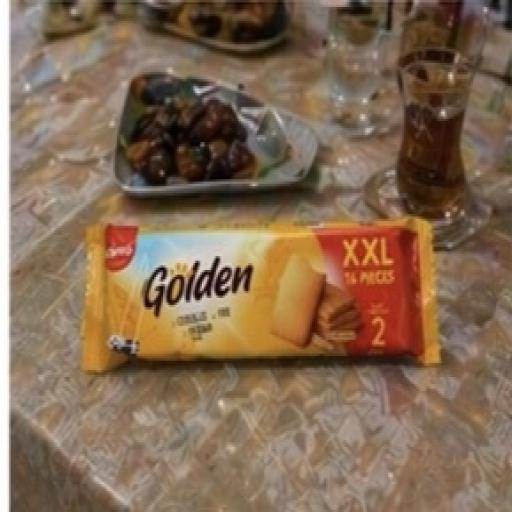golden: (49, 158, 454, 423)
